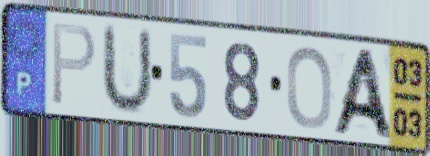5: (167, 30, 209, 122)
8: (221, 39, 263, 123)
A: (327, 47, 397, 142)
O: (284, 43, 334, 132)
P: (49, 20, 98, 109)
U: (98, 21, 154, 117)
